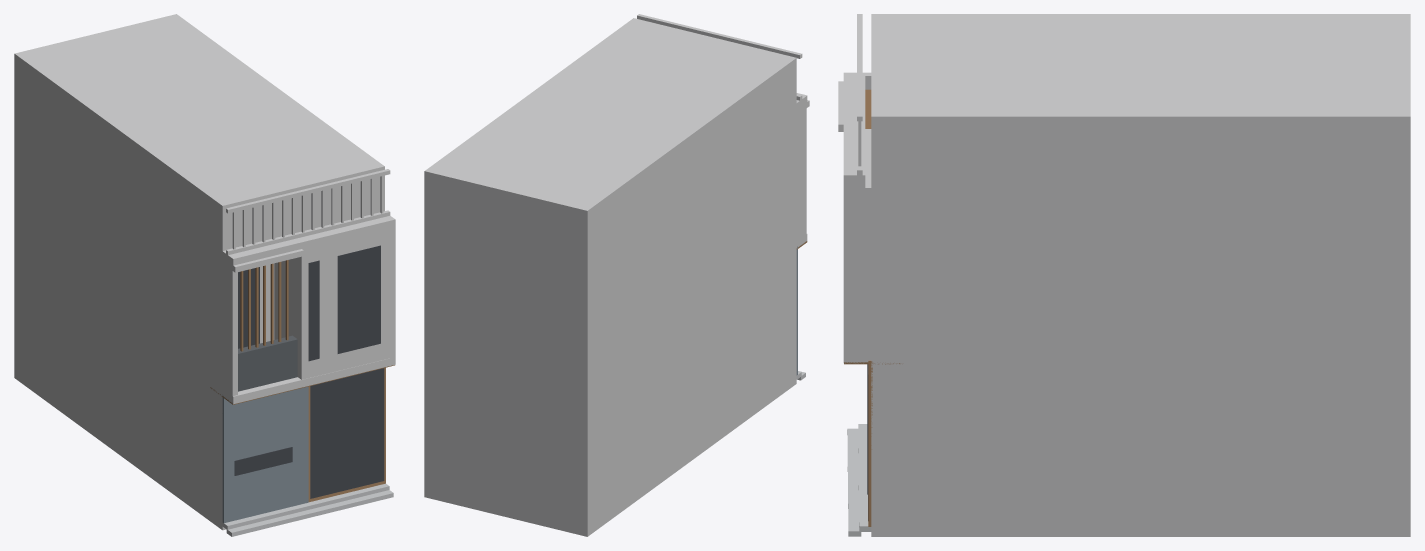
3 renders of one model, left to right at view 1: azimuth 30°, elevation 25°; view 2: azimuth 150°, elevation 25°; view 3: azimuth 270°, elevation 25°, orthographic. The views are drawn at different scales.
Visible parts, largest first — view 1: Object_4; view 2: Object_4; view 3: Object_4.
Boxes of the visible parts, bbox=[...] form: Object_4: bbox=[14, 14, 395, 536]; Object_4: bbox=[424, 14, 809, 536]; Object_4: bbox=[838, 14, 1410, 536].
Size of the model in its own units: 4.5 by 8.6 by 10.61.
